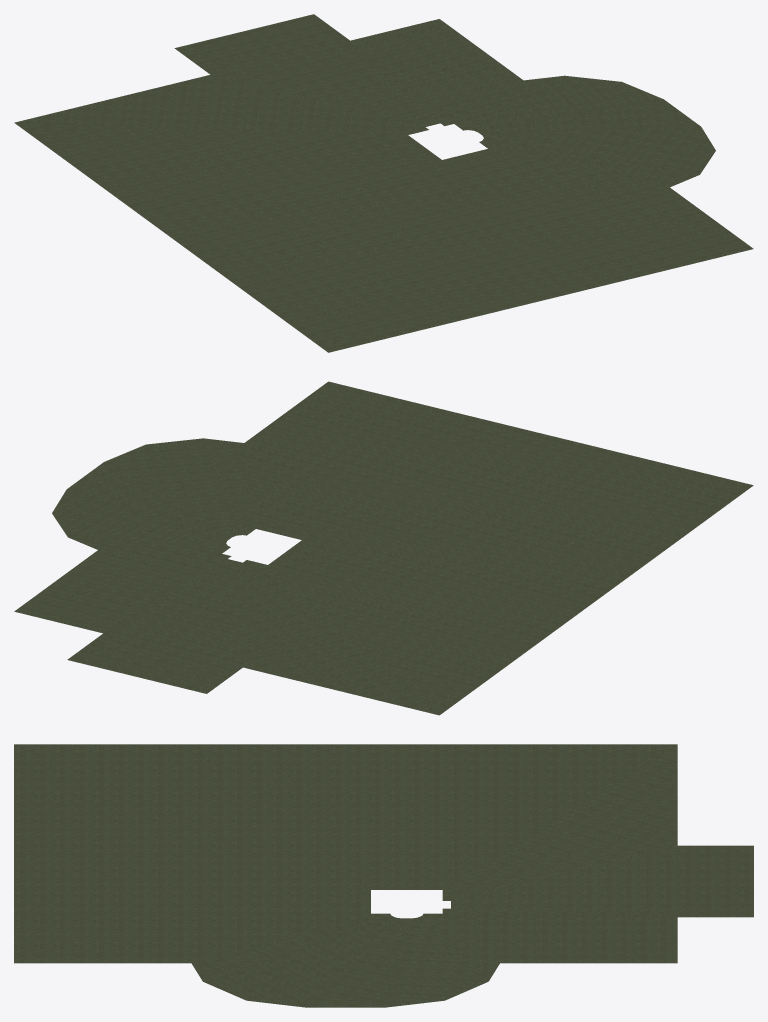
The model's file is grass.glb.
The picture shows the model from 3 angles, top to bottom: view 1: azimuth 30°, elevation 25°; view 2: azimuth 150°, elevation 25°; view 3: azimuth 270°, elevation 25°; orthographic projection. The views are drawn at different scales.
Visible parts, largest first — view 1: Plane.002; view 2: Plane.002; view 3: Plane.002.
Part boxes in pixels (x1,y1,x2,y2): Plane.002: (14,14,753,352); Plane.002: (14,381,753,715); Plane.002: (14,744,753,1007).
Bounding box in the file's own units: 23.73 × 5.36e-07 × 28.18.
1 material, 1 textured.
